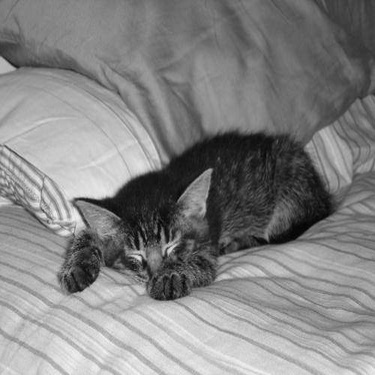cat: (54, 128, 336, 302)
